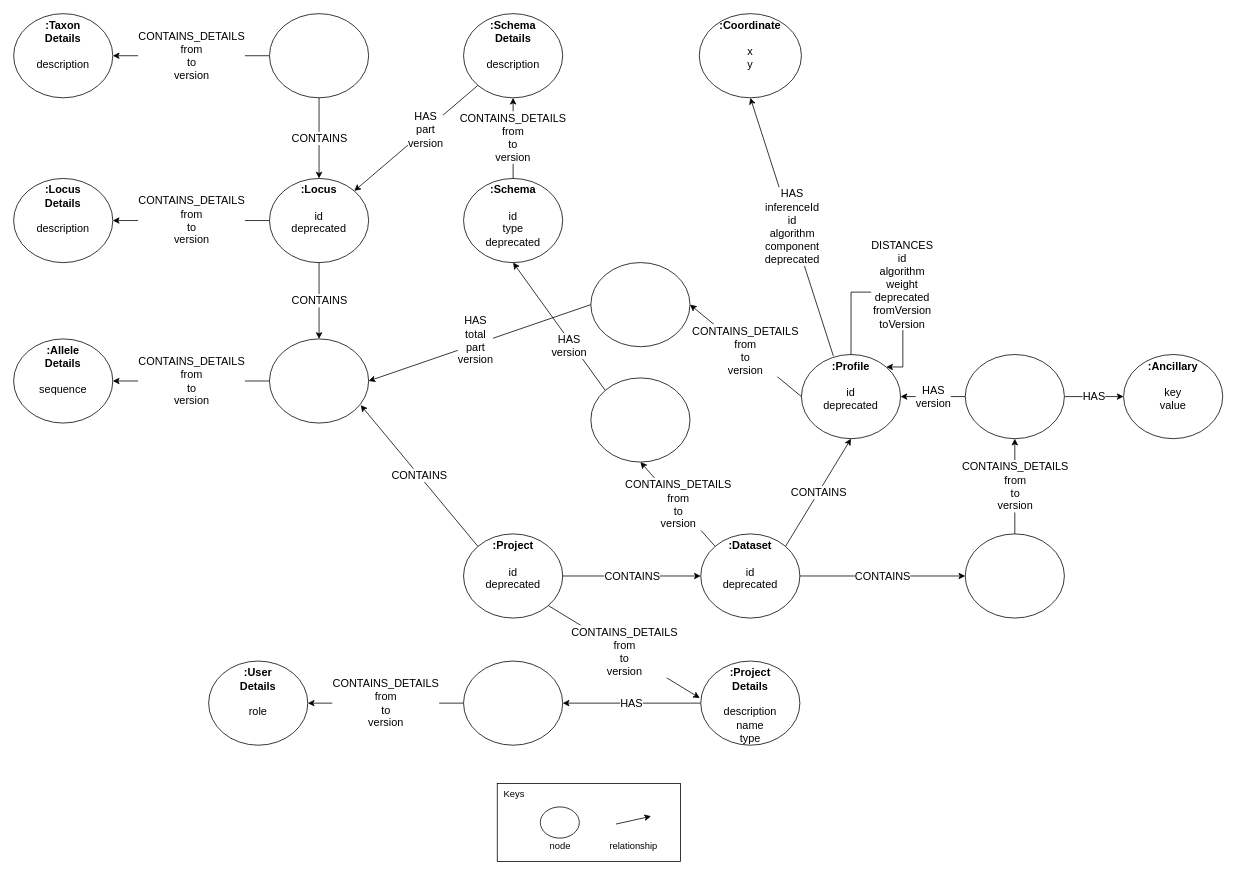
The diagram is 1237 pixels wide and 875 high, and some of its shapes have lost their labels. Each missing label, with the centre of its shape:
":Allele id deprecated" goes at (x=319, y=380).
":Dataset Details description" goes at (x=640, y=419).
":Isolate Details description" goes at (x=1014, y=396).
":Isolate id deprecated" goes at (x=1014, y=575).
":Profile Details aka" goes at (x=640, y=304).
":Taxon id deprecated" goes at (x=319, y=55).
":User id provider deprecated" goes at (x=513, y=702).
